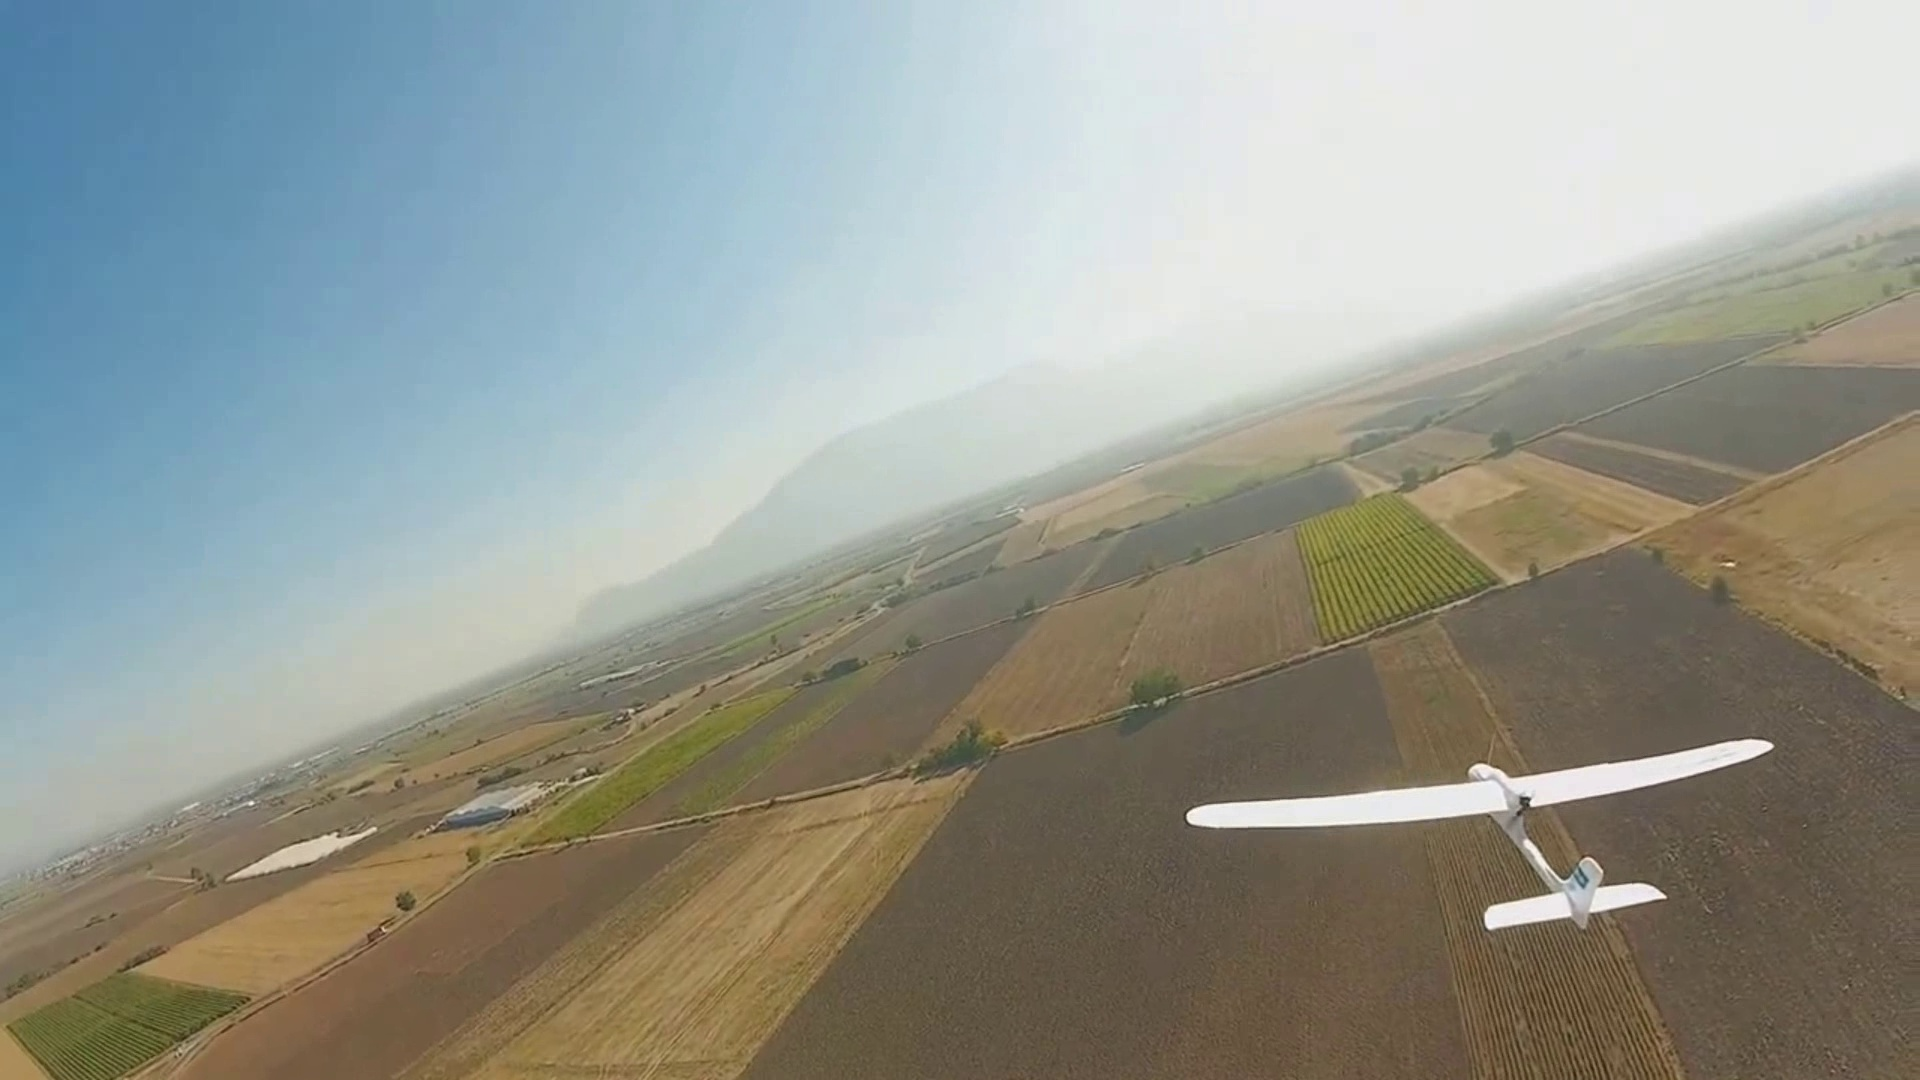airplane: (33, 146, 1917, 982), (1187, 740, 1774, 930)
